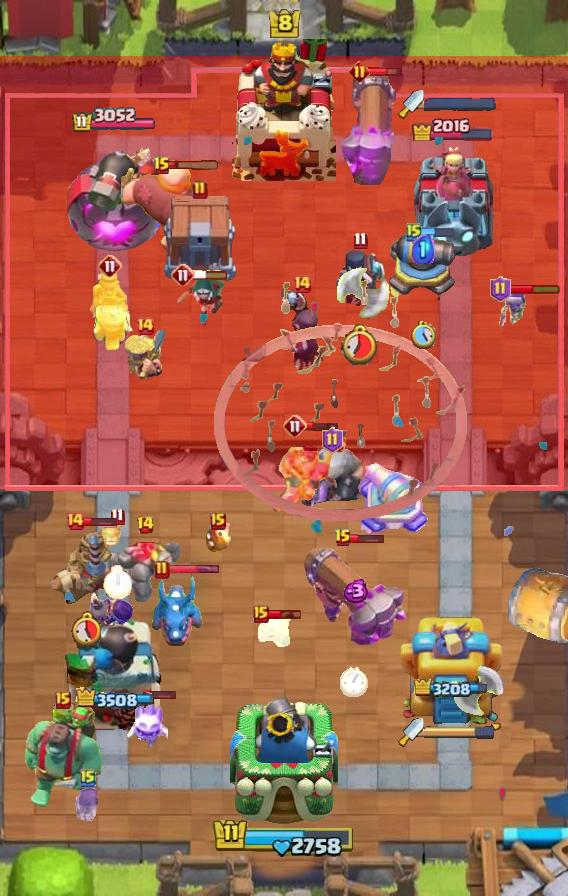arrows: (125, 329, 165, 378)
balloon: (121, 162, 225, 262)
bar: (401, 611, 505, 731), (409, 142, 497, 256)
bat-evolution: (256, 613, 296, 647)
bomb: (161, 196, 239, 282)
bomber: (203, 523, 233, 555)
clock: (212, 817, 356, 859)
dirt: (505, 565, 567, 647)
electro-spirit: (339, 579, 368, 603), (413, 234, 436, 264)
elite-barbarian: (87, 267, 133, 351)
elixir: (340, 323, 380, 365), (71, 611, 101, 645), (103, 565, 132, 599), (340, 667, 368, 698), (412, 321, 437, 349)
emote: (508, 283, 561, 295), (169, 161, 221, 172), (168, 565, 220, 576), (368, 65, 403, 78), (421, 226, 456, 239), (193, 269, 229, 281), (304, 420, 340, 432), (267, 608, 303, 620), (142, 688, 178, 700), (82, 515, 117, 527), (350, 532, 385, 544)
freeze: (269, 431, 349, 525)
furnace: (301, 543, 407, 649), (339, 71, 401, 185)
goblin: (497, 286, 529, 328), (73, 788, 104, 826)
goblin-ball: (83, 593, 135, 649)
graveyard: (148, 574, 204, 648)
ice-spirit-evolution: (101, 517, 133, 549)
king-tower: (232, 39, 336, 181), (230, 692, 338, 826)
king-tower-bar: (424, 97, 496, 111), (424, 725, 496, 739)
lava-hound: (21, 697, 105, 809)
mirror: (124, 695, 168, 749)
ram-rider: (47, 526, 125, 606)
rascal-boy: (279, 286, 325, 374), (333, 247, 387, 321)
royal-giant: (452, 665, 510, 727), (335, 257, 391, 319)
royal-guardian: (297, 443, 367, 507)
royal-recruit: (356, 459, 432, 541), (386, 230, 460, 300)
selected: (71, 107, 157, 134), (411, 115, 495, 141), (74, 686, 154, 710), (414, 679, 494, 700)
skeleton-barrel: (214, 278, 468, 522)
tesla: (175, 271, 225, 329)
text: (98, 254, 122, 278), (171, 263, 195, 287), (283, 414, 307, 438), (321, 427, 343, 453), (490, 276, 511, 302), (350, 61, 371, 83), (292, 274, 312, 294), (135, 316, 155, 336), (65, 511, 85, 531), (136, 515, 155, 535), (153, 156, 171, 176), (334, 528, 352, 548), (192, 180, 208, 200), (406, 222, 422, 242), (154, 560, 170, 580), (80, 768, 96, 788), (210, 512, 226, 530), (253, 605, 269, 623), (55, 691, 71, 709), (110, 507, 125, 525), (353, 231, 367, 249)
tower-bar: (63, 136, 165, 256), (63, 615, 165, 731)
valkyrie-evolution: (107, 537, 183, 605)
